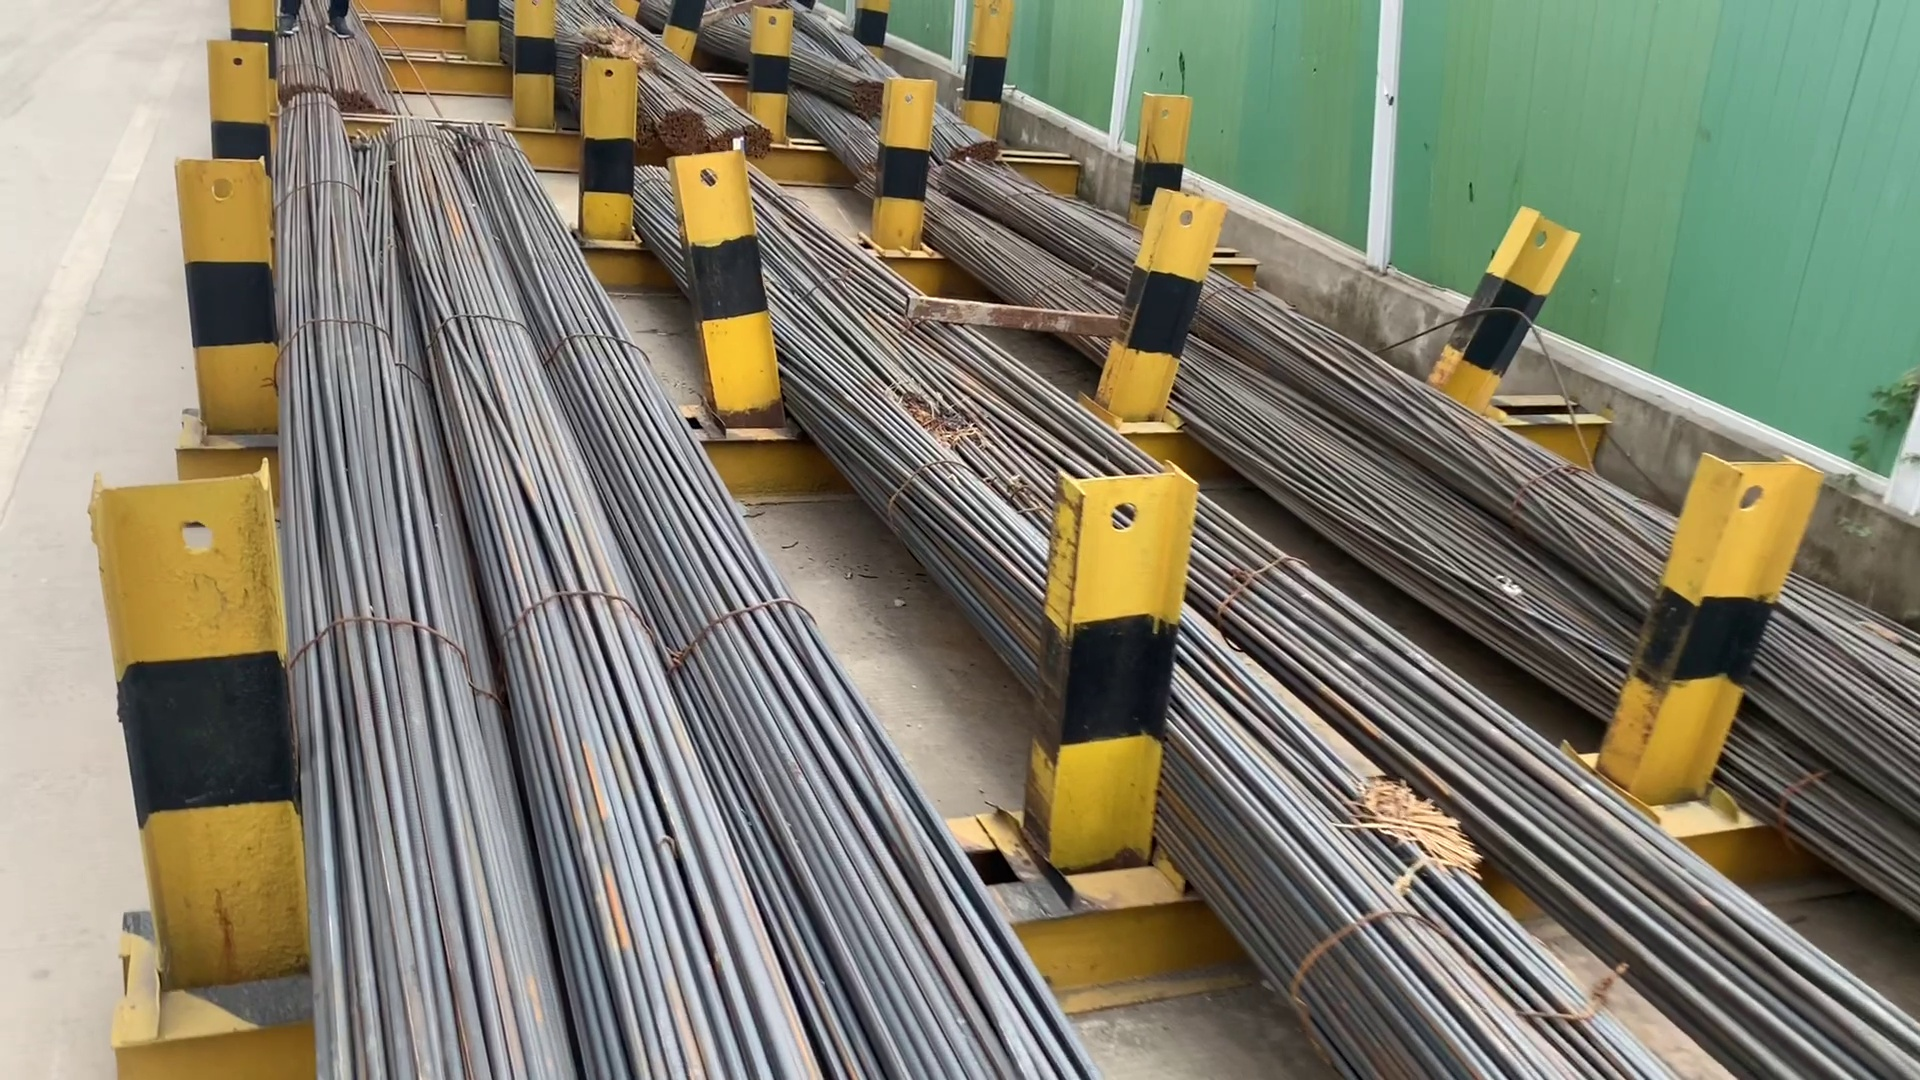rebar: (651, 100, 709, 157), (717, 117, 777, 156), (334, 76, 392, 115), (841, 73, 891, 115), (947, 131, 1000, 164)
